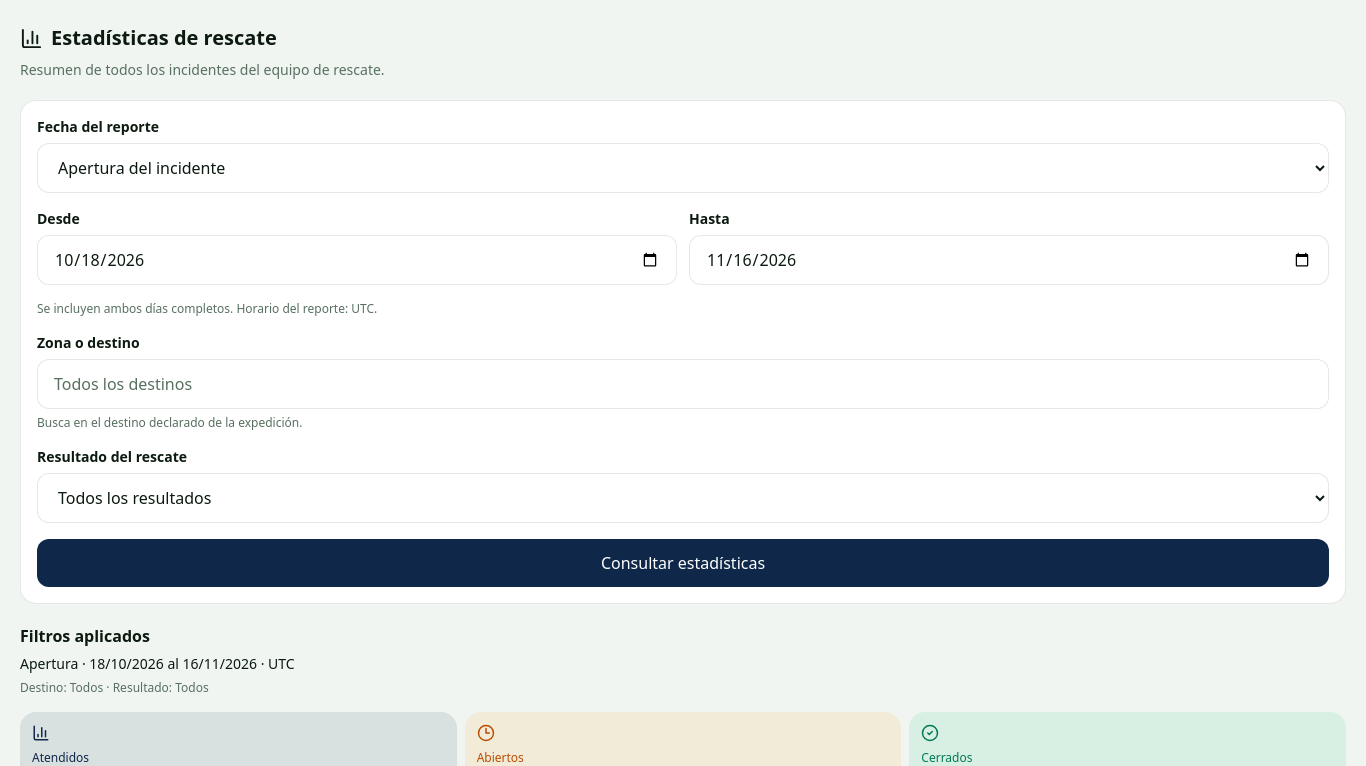
Scenario: HU-47: pantalla de estadísticas › un fallo conserva el reporte con sus filtros y permite reintentar la consulta fallida
The width and height of the screenshot is (1366, 766).
Type "Cusco" into the search field labelled "Zona o destino" at (683, 384), box [37,359,1329,409]
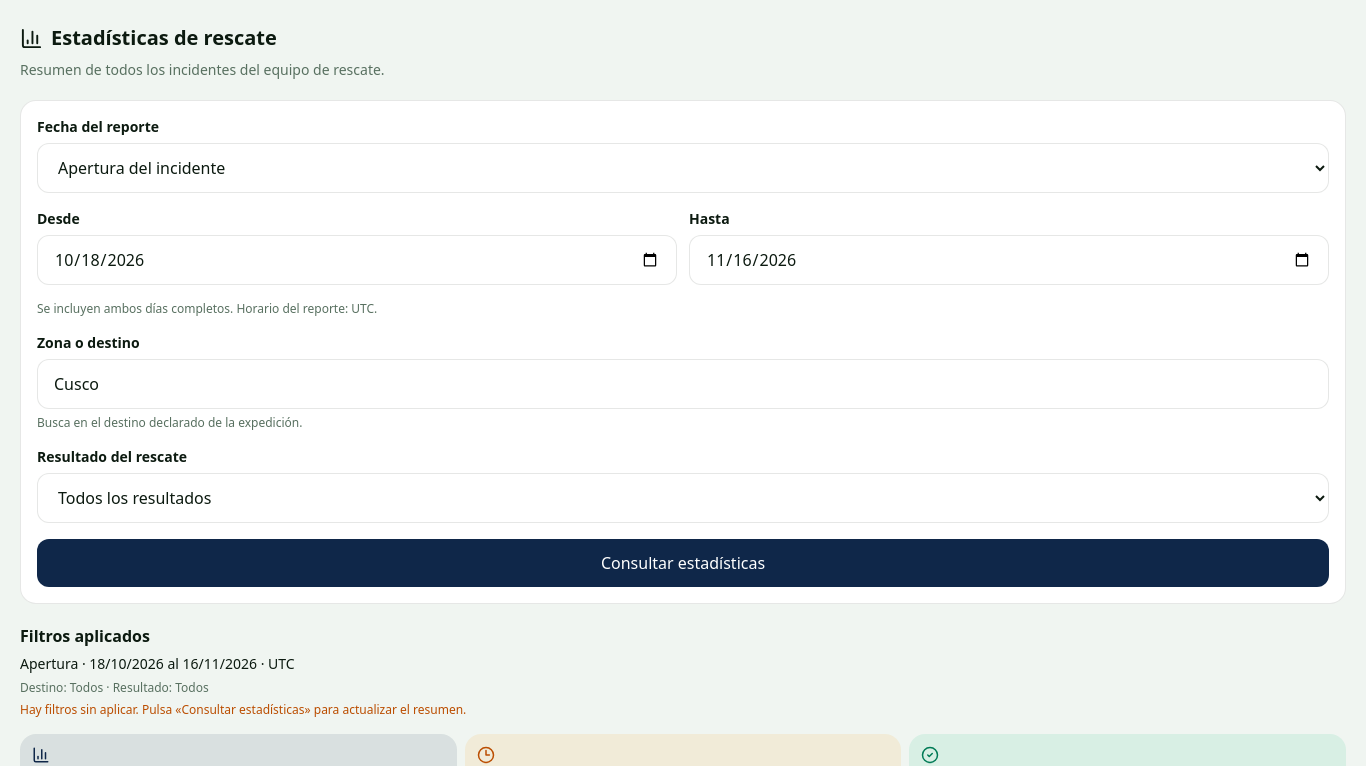
Submit the form
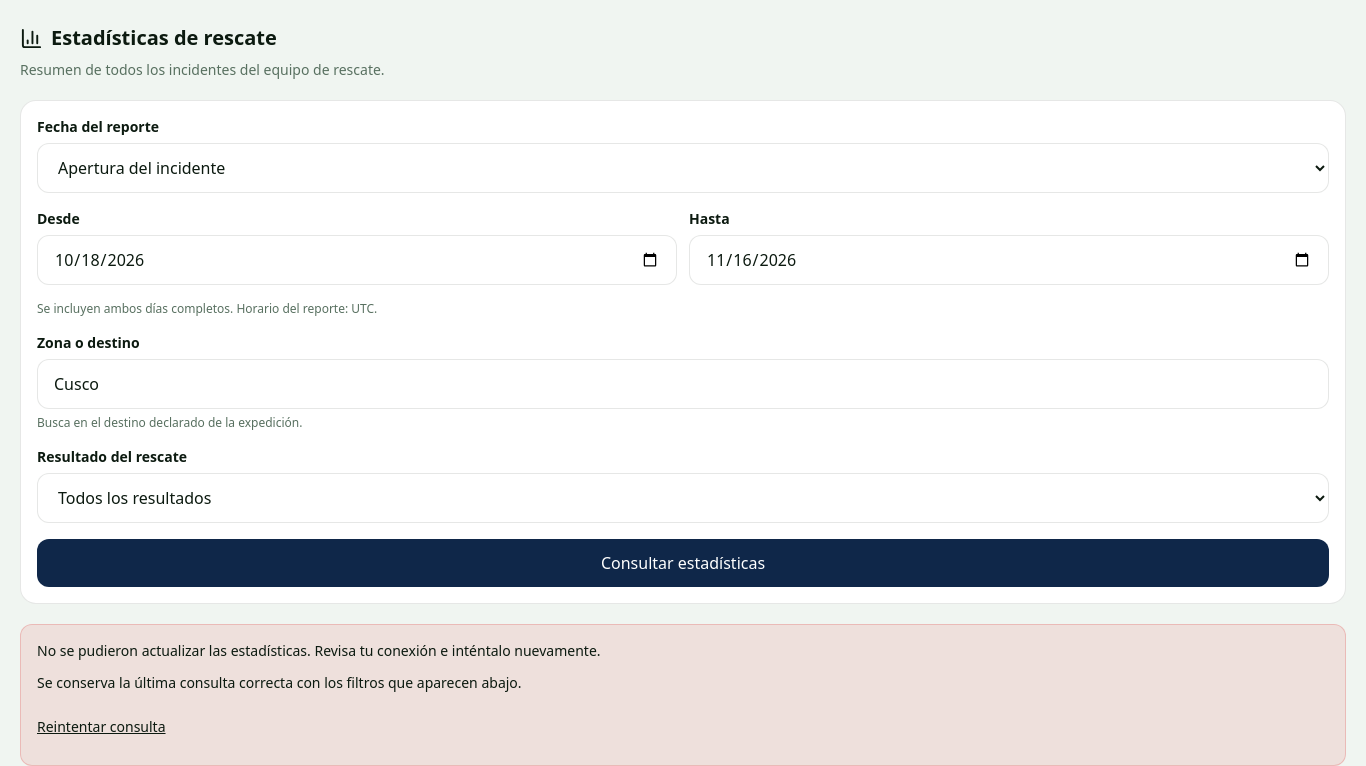
Check: the text "Se conserva la última consulta correcta" is shown, box [37,673,522,692]
Click the button "Reintentar consulta" at (101, 727), box [37,705,166,749]
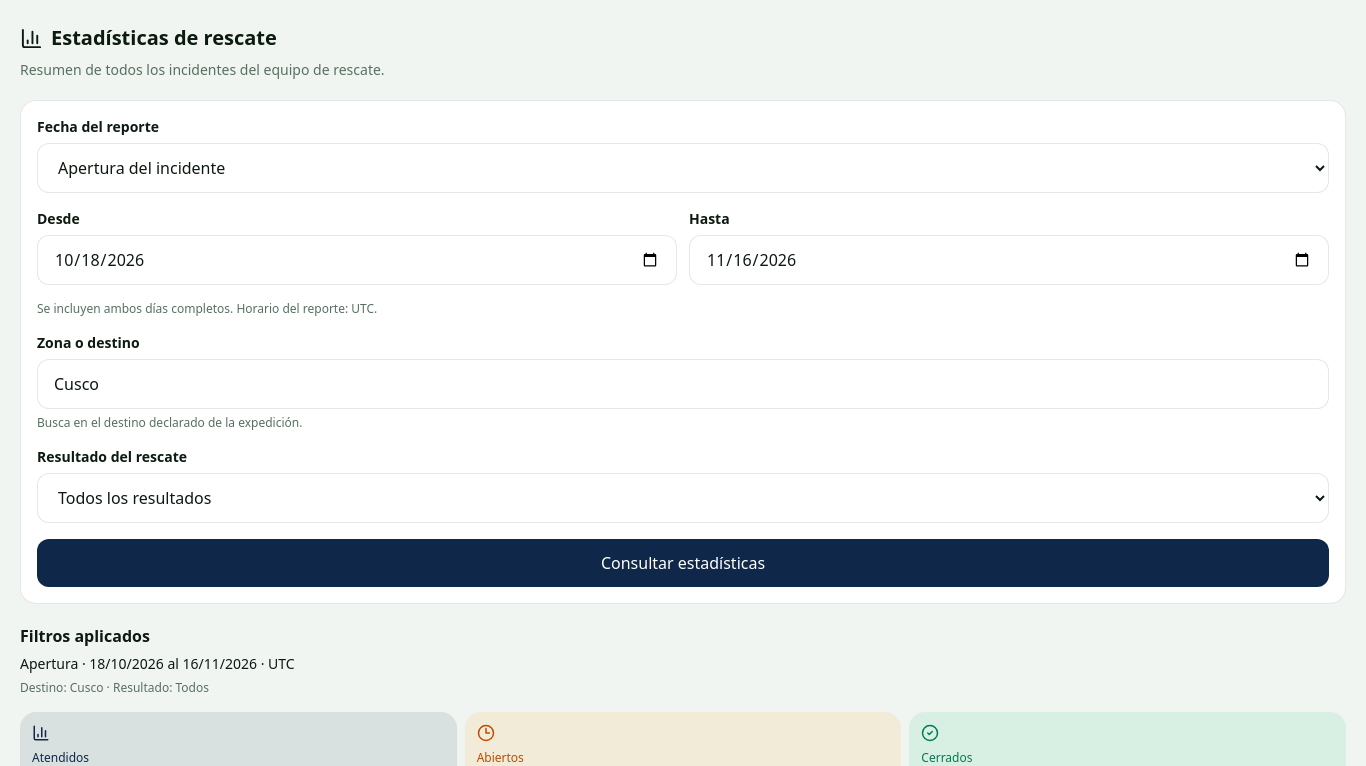
Check: the text "Destino: Cusco" is shown, box [20,679,209,696]
Check: the text "No se pudieron actualizar" is gone
